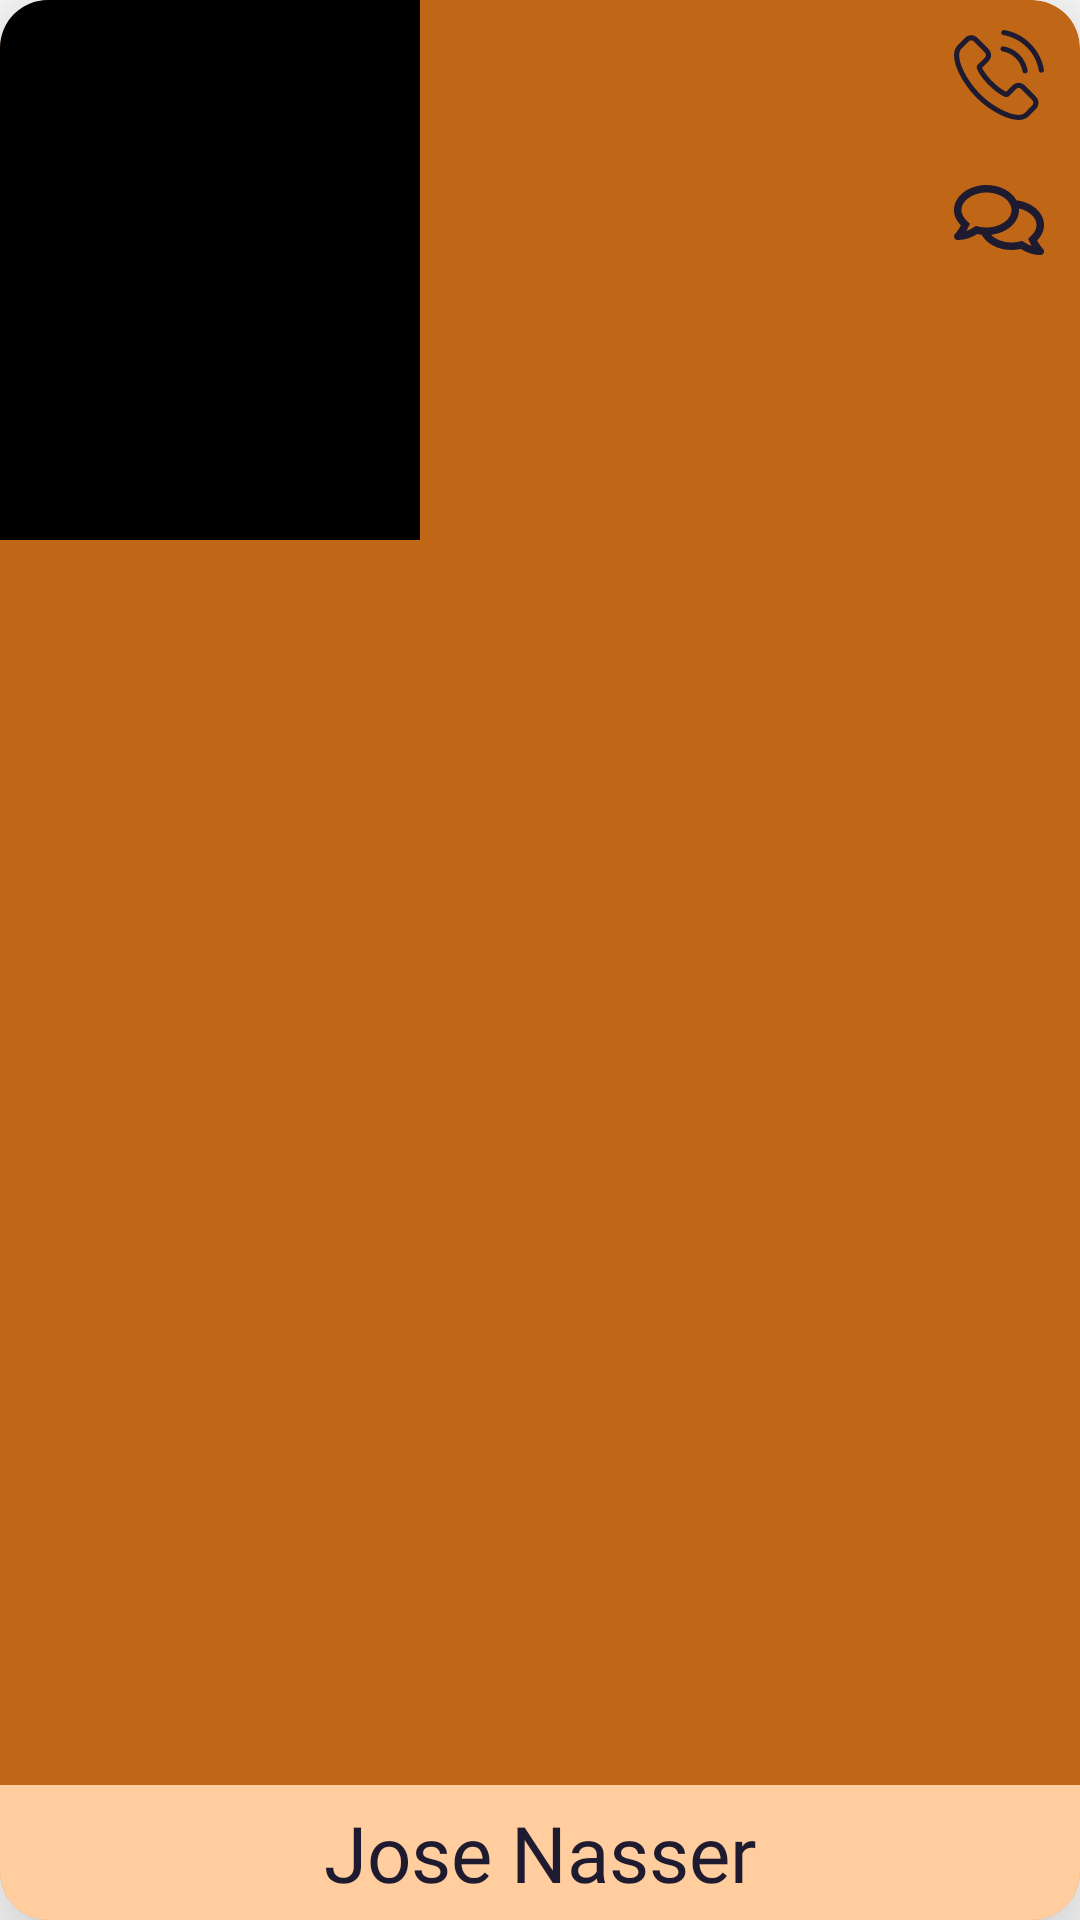

Icons on this 1080*1920 Android screen, each with the point to tap as point (x, y):
llamada telefonica: point (1017, 60)
message: point (999, 220)
